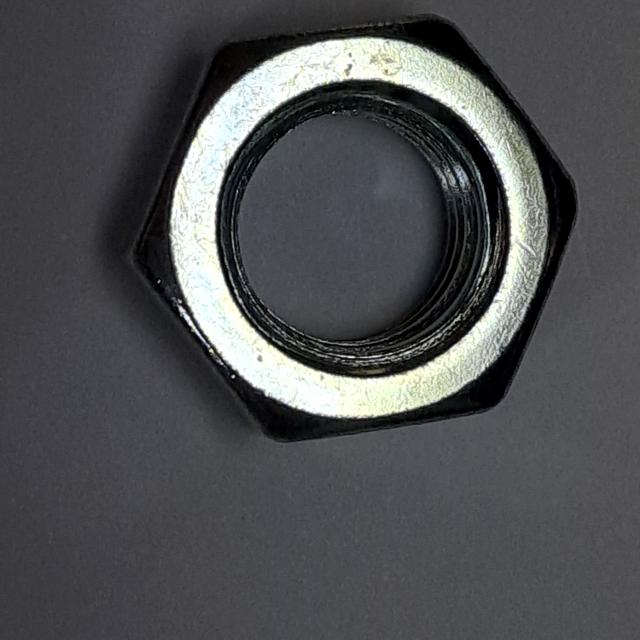Excellent: (106, 1, 594, 455)
